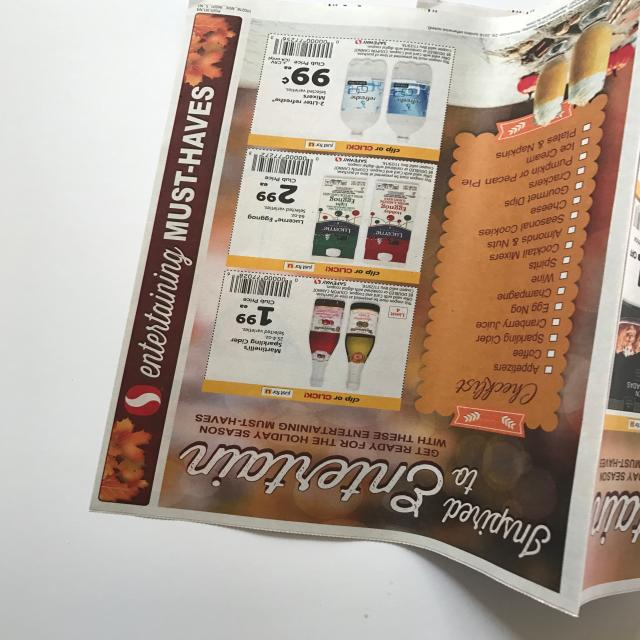paper: (75, 0, 640, 620)
